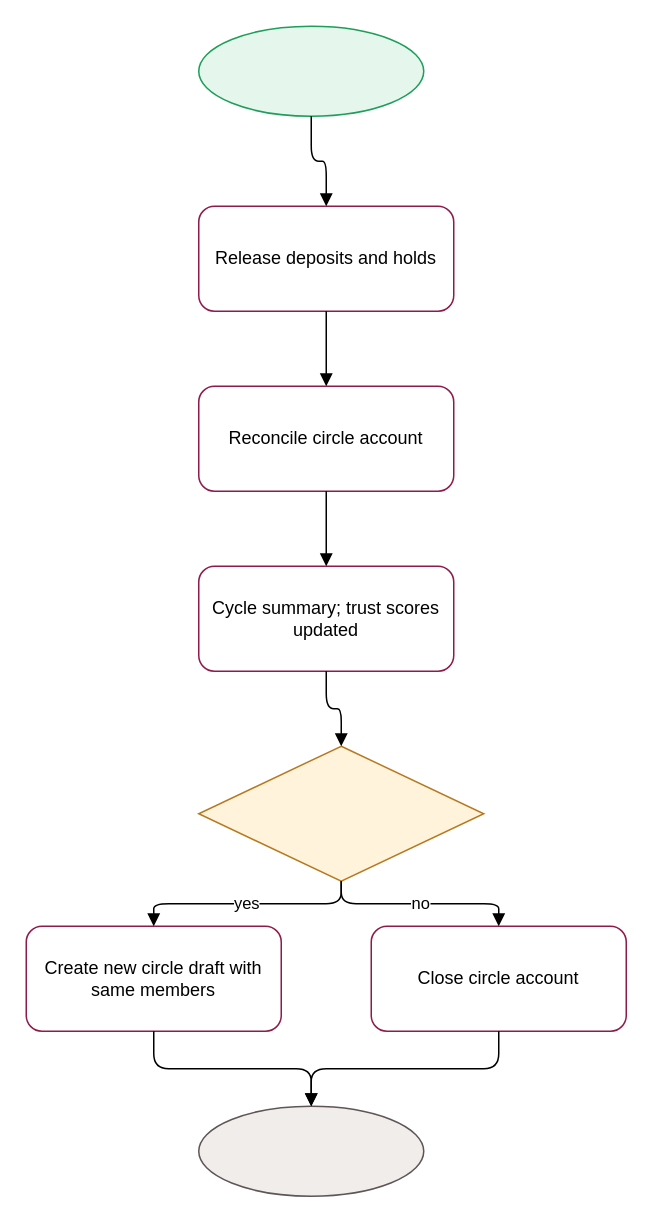
The diagram is 653 pixels wide and 1223 high, and some of its shapes have lost their labels. The centre of each missing label's shape, as x and y in pixels:
"Done" belongs at [310,1150].
"Final payout completed" belongs at [310,70].
"Renew with same group?" belongs at [340,813].
